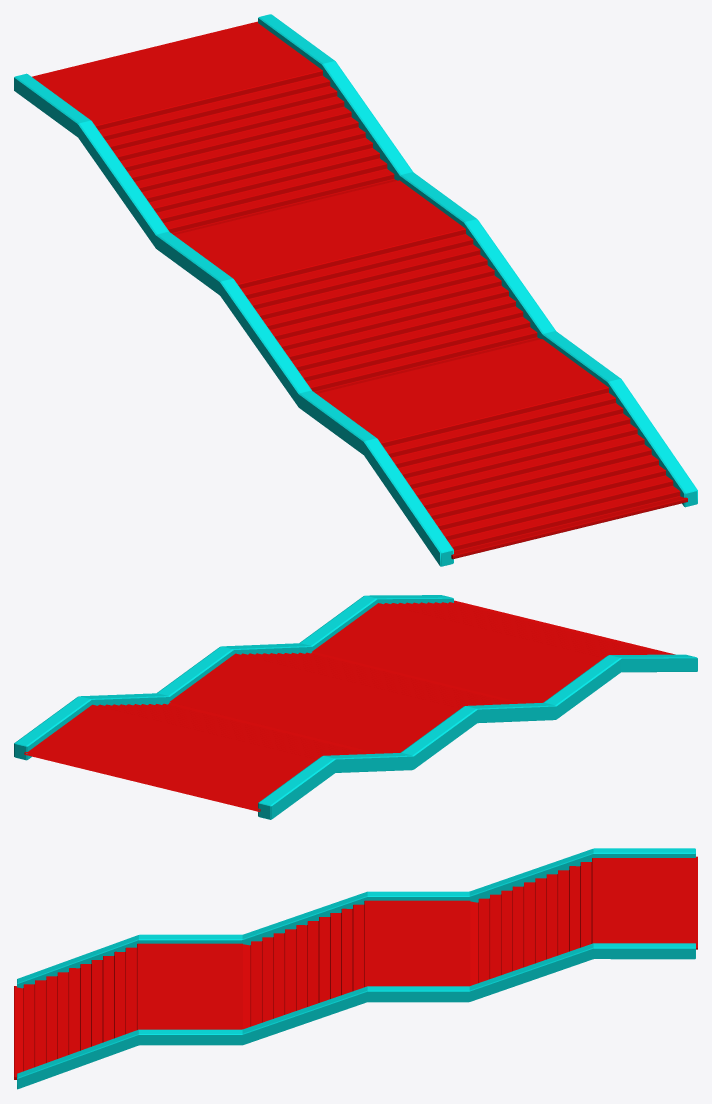
The model's file is stairs_2.fbx.
3 views of the same model, one above another, from view 1: azimuth 30°, elevation 25°; view 2: azimuth 150°, elevation 25°; view 3: azimuth 270°, elevation 25° (orthographic). The views are drawn at different scales.
Visible parts, largest first — view 1: pPlane11, polySurface920; view 2: pPlane11, polySurface920; view 3: pPlane11, polySurface920.
Part boxes in pixels (x1,y1,x2,y2): pPlane11: (32,21,687,559); polySurface920: (14,14,697,566); pPlane11: (24,600,675,811); polySurface920: (14,595,697,819); pPlane11: (14,856,697,1079); polySurface920: (17,848,695,1089).
Bounding box in the file's own units: 23.94 × 15.84 × 69.15.
